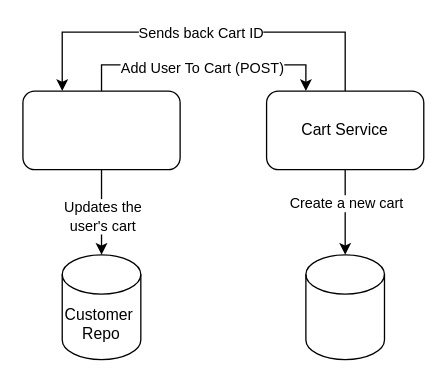
Some shapes in this 447 by 383 pixel diagram are drawn without their labels. The box of each missing label's shape, as (x1, y1, x2, y2) in pixels:
Cart Repo: (305, 253, 384, 360)
Customer Service: (22, 90, 180, 170)
